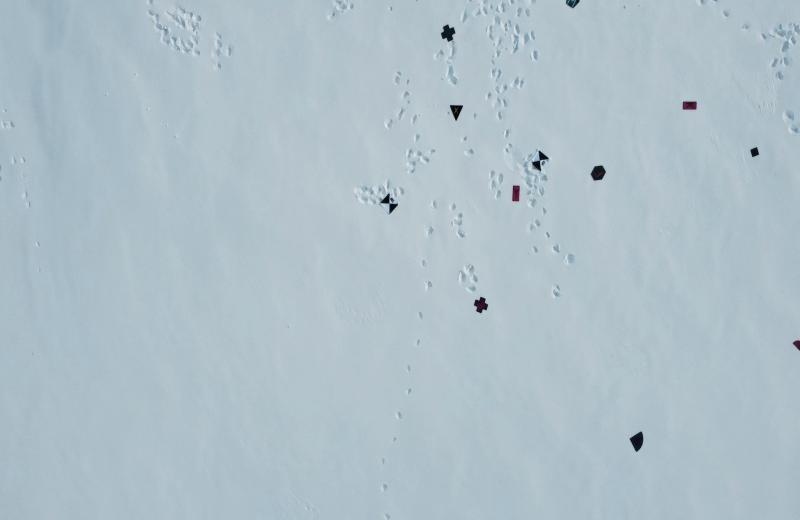Cross: (473, 296, 489, 314), (440, 24, 456, 42)
Hexagon: (590, 164, 607, 181)
Pentagon: (564, 0, 580, 11)
Quarter Circle: (628, 430, 645, 453)
Rectangle: (508, 184, 522, 202), (681, 101, 698, 112)
Semi Circle: (793, 337, 800, 354)
Square: (750, 148, 760, 158)
Triangle: (449, 101, 465, 121)
